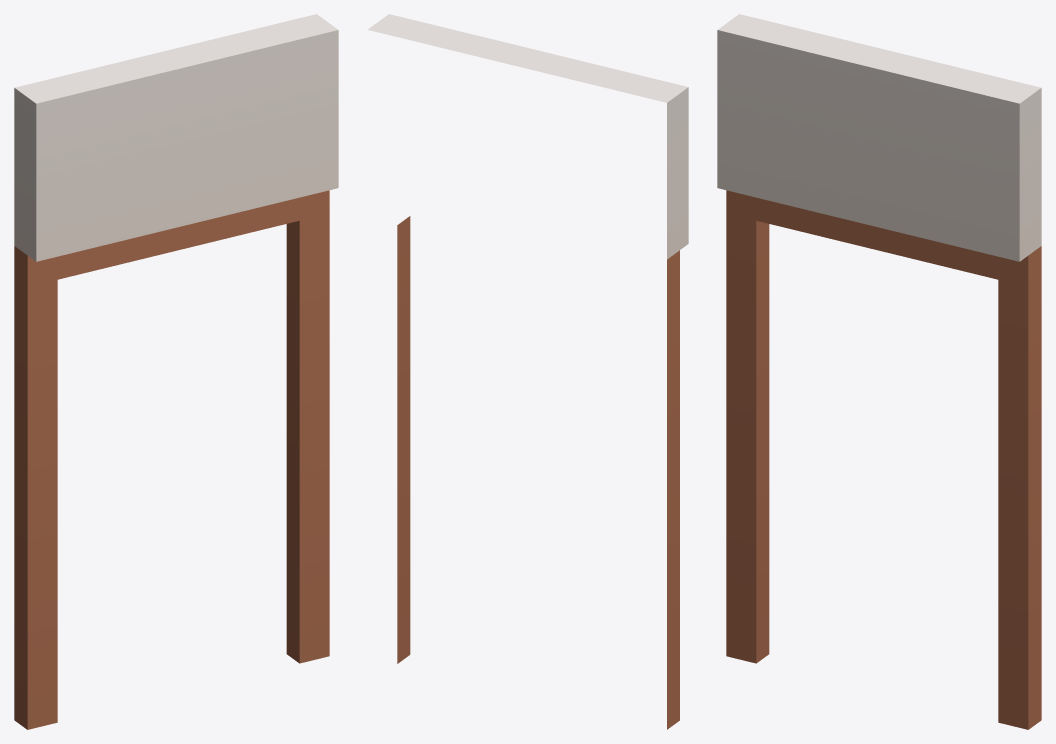
Rendered from wall-modular-panelled-bakery-doorway.glb.
3 views of the same model, side by side, from view 1: azimuth 30°, elevation 25°; view 2: azimuth 150°, elevation 25°; view 3: azimuth 330°, elevation 25° (orthographic).
Parts seen in each view (by area): view 1: wall_modular_panelled_bakery_doorway; view 2: wall_modular_panelled_bakery_doorway; view 3: wall_modular_panelled_bakery_doorway.
Boxes of the visible parts, x1,y1,x2,y2 form: wall_modular_panelled_bakery_doorway: [14, 14, 338, 729]; wall_modular_panelled_bakery_doorway: [367, 14, 688, 729]; wall_modular_panelled_bakery_doorway: [717, 14, 1041, 729].
Bounding box in the file's own units: 2 × 4 × 0.25.
1 material, 1 textured.
